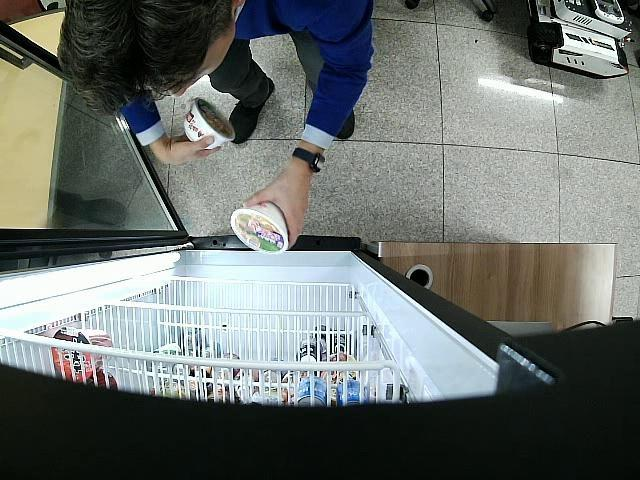09_yukGaeJang: (231, 201, 289, 254), (184, 97, 235, 148)
